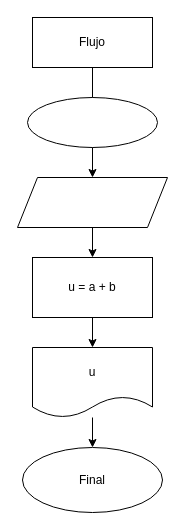
Image size: 185x530. Some labels were removed from this diagram. Here are the shapes that lost their labels. From the top down, the centre of each, then its label:
the point at 92,122: Inicio
the point at 92,202: a, b
